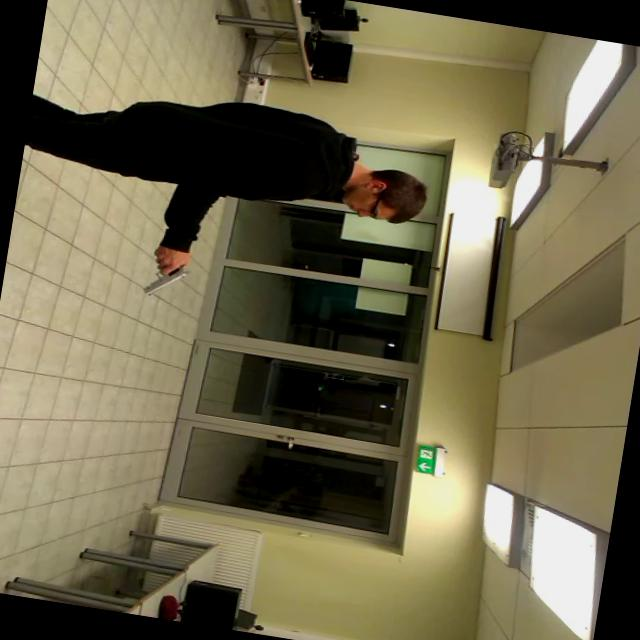handgun: (129, 253, 201, 304)
